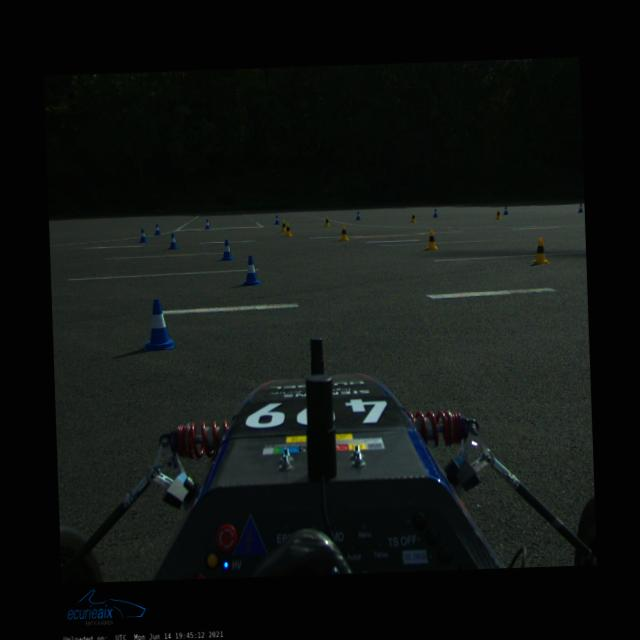blue_cone: (142, 298, 174, 350), (240, 256, 261, 286), (220, 239, 234, 260), (167, 232, 178, 249), (138, 228, 147, 242), (204, 219, 211, 229), (154, 223, 160, 234), (577, 202, 583, 212), (274, 214, 280, 224), (432, 208, 438, 217), (502, 206, 508, 214), (356, 210, 360, 220)
yellow_cone: (530, 238, 550, 264), (425, 230, 439, 250), (339, 224, 349, 240), (284, 222, 293, 236), (279, 218, 286, 232), (494, 208, 502, 218), (324, 216, 331, 227), (409, 212, 416, 222)
